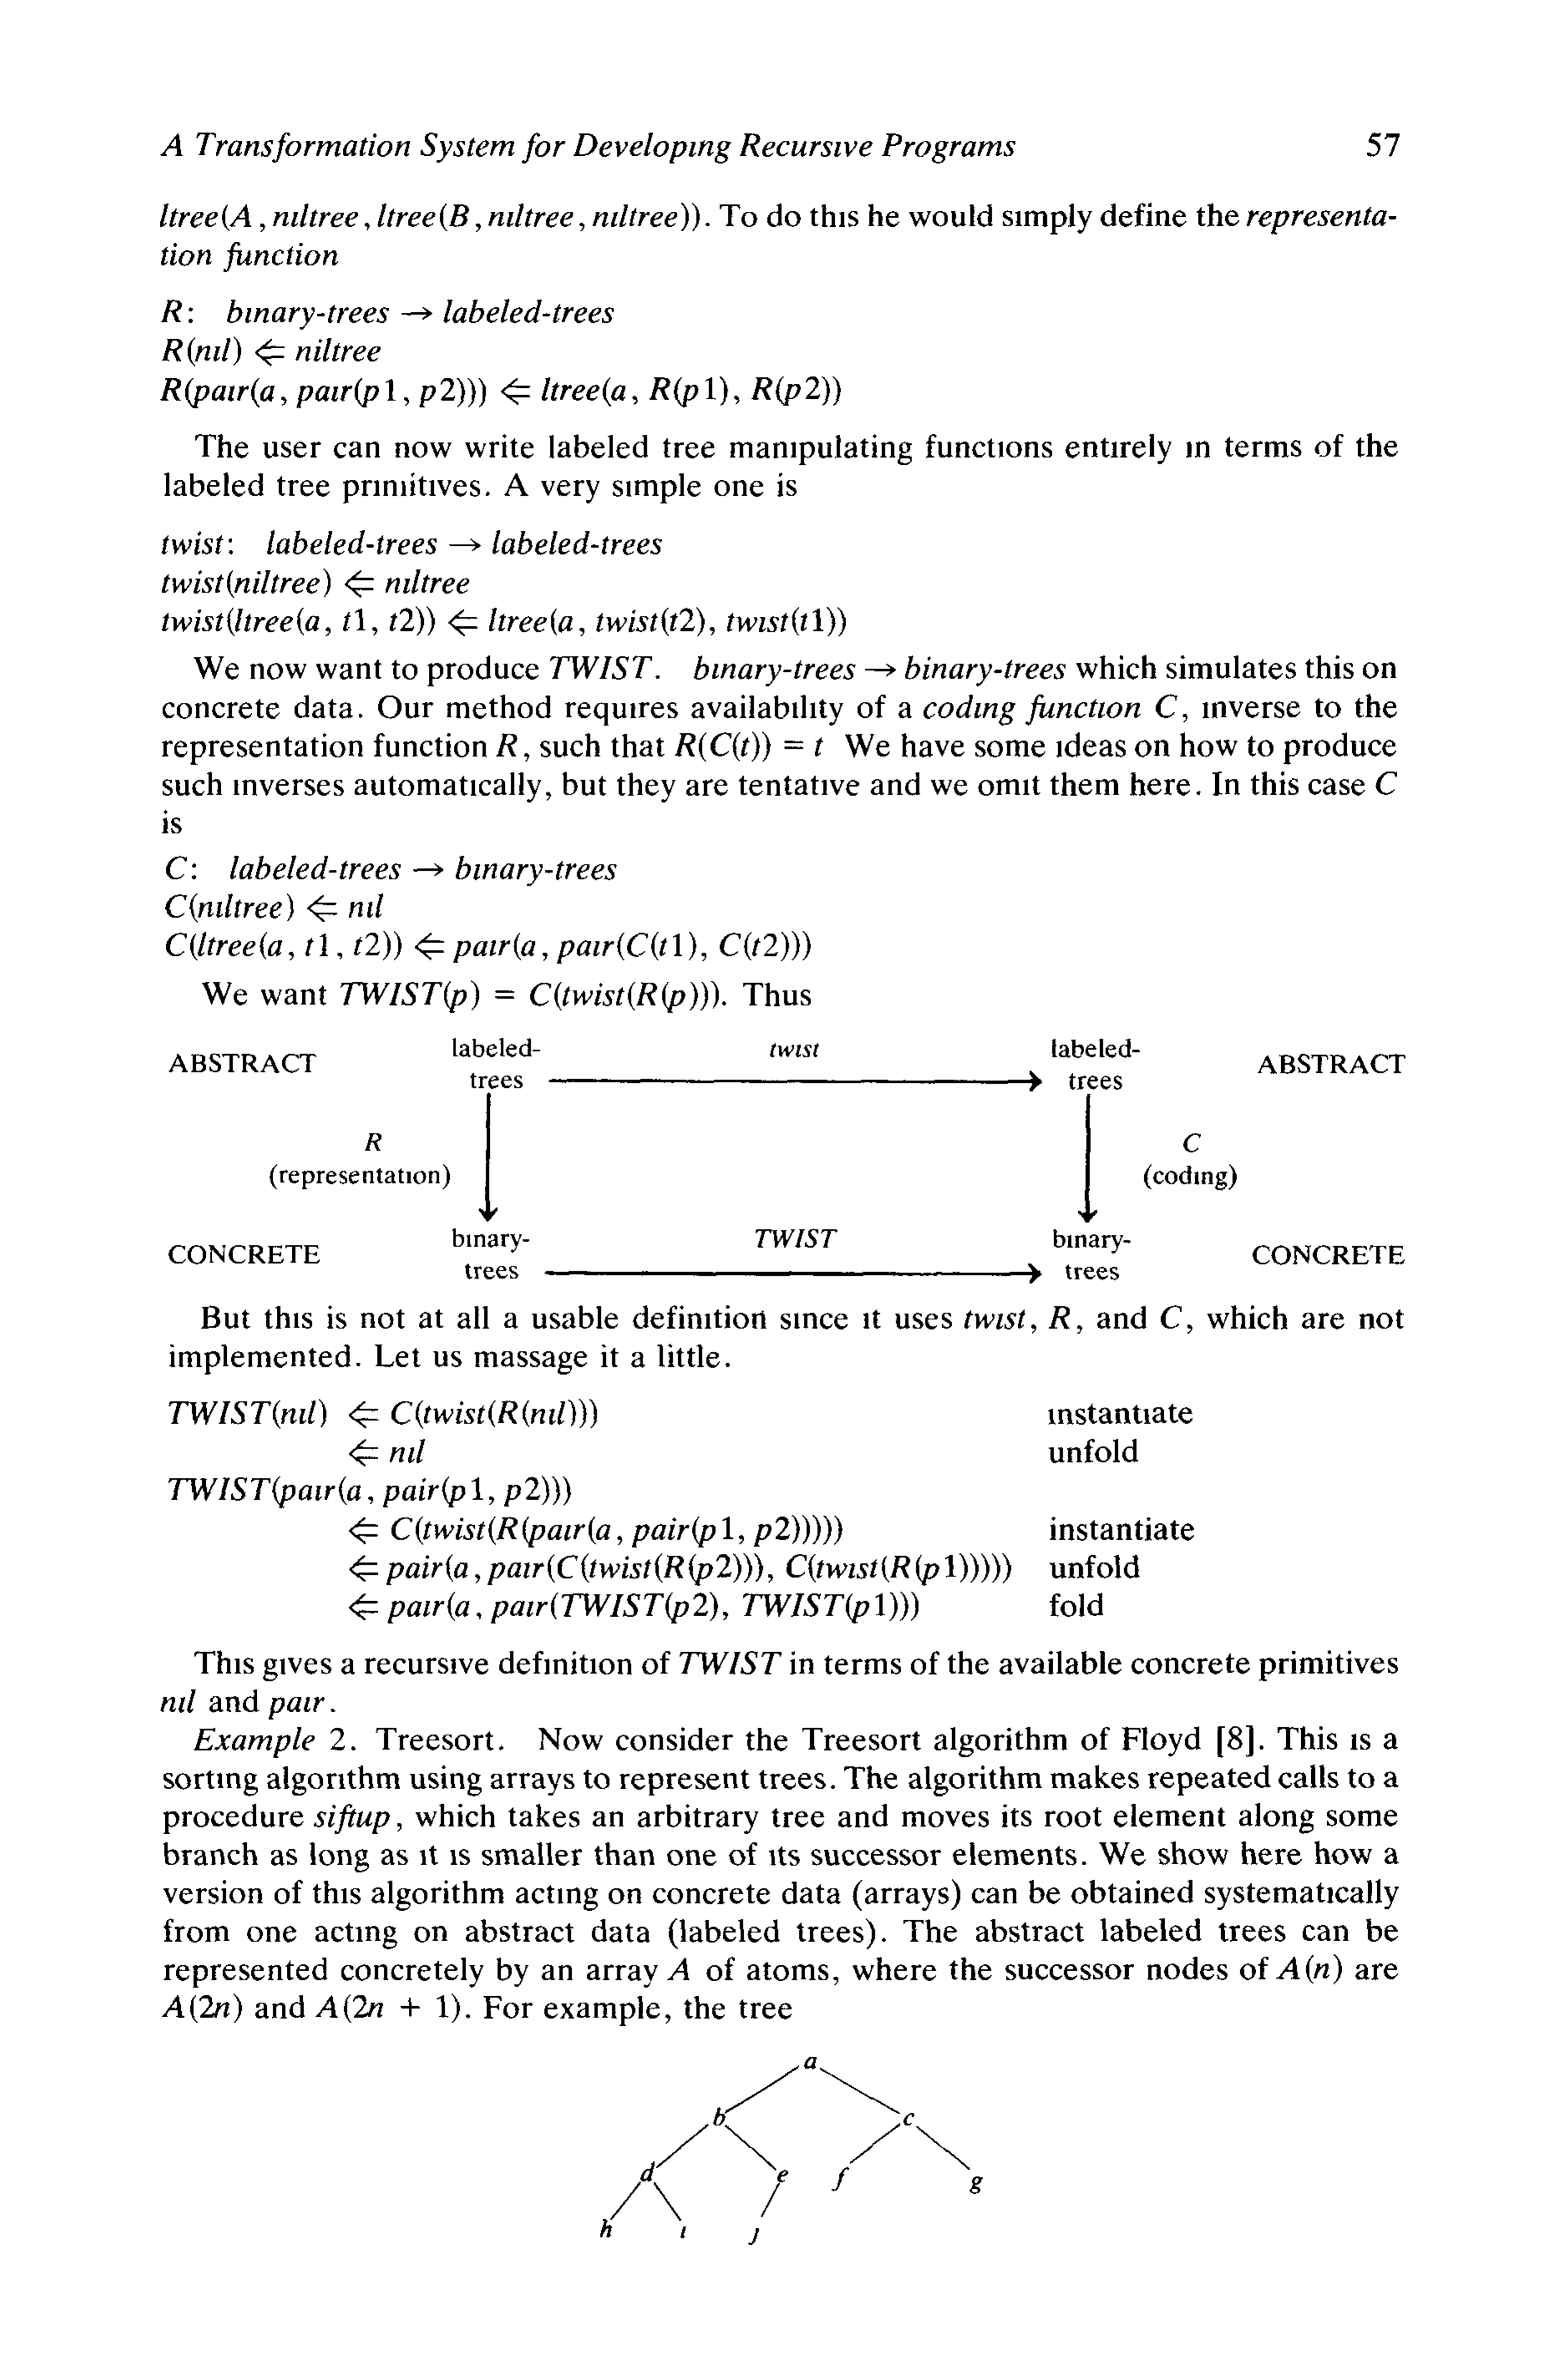maths: (350, 1553, 1012, 1587), (161, 377, 841, 409), (163, 606, 846, 636), (166, 931, 811, 963), (350, 1592, 919, 1623), (161, 203, 699, 234), (350, 1515, 842, 1548), (170, 1398, 598, 1429), (170, 1475, 572, 1508), (163, 529, 662, 556), (659, 655, 1066, 687), (341, 980, 718, 1014), (227, 299, 613, 330), (231, 854, 617, 886), (163, 568, 468, 598), (163, 337, 381, 367), (166, 893, 383, 923), (675, 732, 823, 762), (316, 1994, 460, 2022), (551, 655, 652, 680), (680, 1651, 781, 1674), (163, 1994, 243, 2022), (315, 1803, 390, 1833), (350, 1438, 425, 1466), (1276, 1954, 1342, 1983), (269, 1697, 325, 1719), (161, 1690, 196, 1712), (1155, 694, 1178, 718), (668, 1957, 690, 1980), (1049, 1305, 1070, 1330), (496, 734, 517, 757), (1375, 772, 1396, 795), (166, 856, 187, 879), (1161, 1305, 1181, 1328), (161, 301, 182, 322), (1171, 433, 1185, 465)
